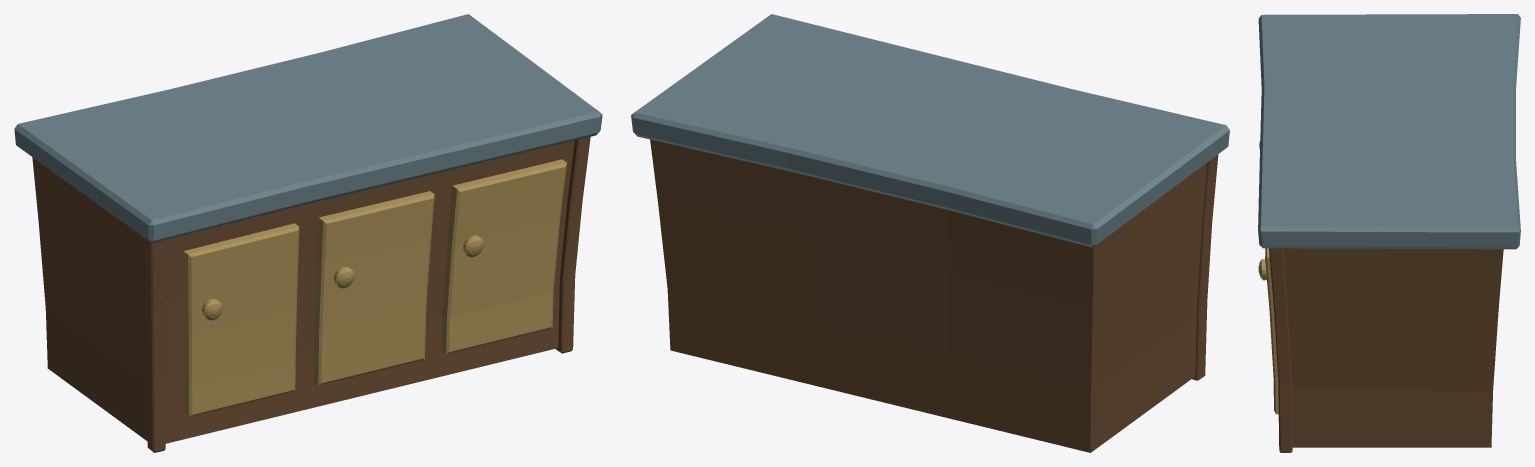
Rendered from KitchenCounter.fbx.
3 renders of one model, left to right at view 1: azimuth 30°, elevation 25°; view 2: azimuth 150°, elevation 25°; view 3: azimuth 270°, elevation 25°, orthographic. The views are drawn at different scales.
Visible parts, largest first — view 1: KitchenCounter; view 2: KitchenCounter; view 3: KitchenCounter.
Boxes of the visible parts, left/top/right/bottom form: KitchenCounter: left=14, top=14, right=602, bottom=452; KitchenCounter: left=631, top=14, right=1229, bottom=452; KitchenCounter: left=1258, top=14, right=1520, bottom=452.
Size of the model in its own units: 275 by 139 by 141.
